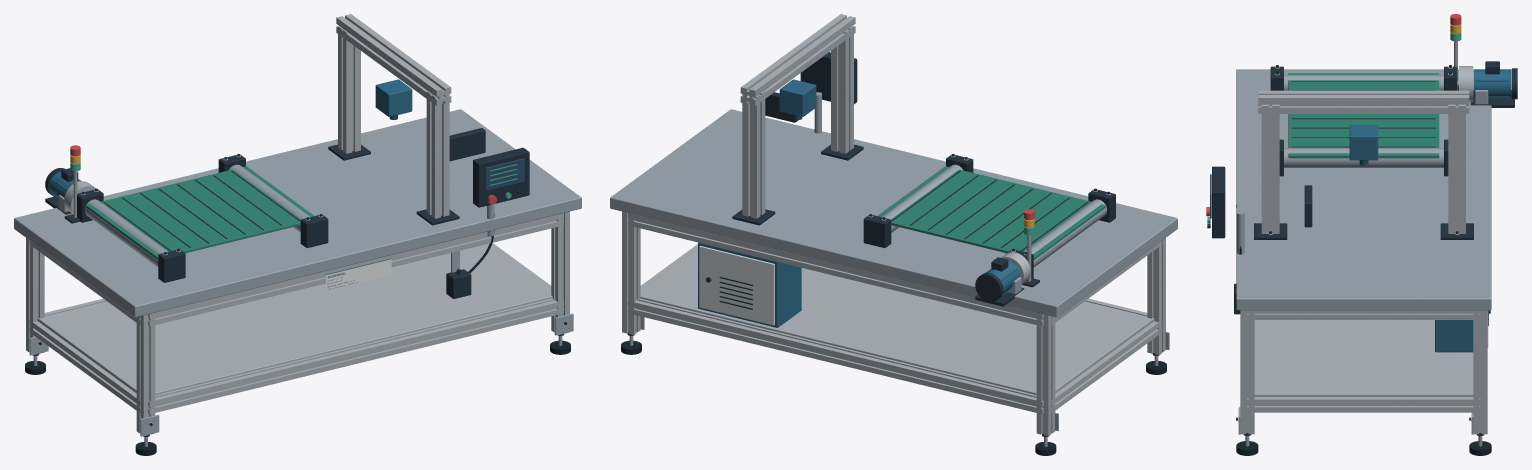
File: barcode-verifier-cell.glb
3 renders of one model, left to right at view 1: azimuth 30°, elevation 25°; view 2: azimuth 150°, elevation 25°; view 3: azimuth 270°, elevation 25°, orthographic. The views are drawn at different scales.
Parts seen in each view (by area): view 1: ClosedMachineBed_40, LowerShelf_41, Belt_71, SlottedExtrusion_34, SlottedExtrusion_35, SlottedExtrusion_133, SlottedExtrusion_128, SlottedExtrusion_123, SlottedExtrusion_11, SlottedExtrusion_36, ConsoleBack_52, SlottedExtrusion_27 (+10 smaller); view 2: ClosedMachineBed_40, LowerShelf_41, Belt_71, SlottedExtrusion_32, SlottedExtrusion_33, BackDoor_43, SlottedExtrusion_133, SlottedExtrusion_123, SlottedExtrusion_128, SlottedExtrusion_3, Cabinet_42, SlottedExtrusion_19 (+8 smaller); view 3: ClosedMachineBed_40, LowerShelf_41, Belt_71, SlottedExtrusion_133, SlottedExtrusion_38, SlottedExtrusion_128, BeltRoller_87, SlottedExtrusion_123, SlottedExtrusion_39, SlottedExtrusion_27, SlottedExtrusion_19, Cabinet_42 (+12 smaller).
Boxes of the visible parts, x1,y1,x2,y2 form: ClosedMachineBed_40: [14, 109, 581, 317]; LowerShelf_41: [37, 244, 552, 394]; Belt_71: [86, 166, 314, 259]; SlottedExtrusion_34: [148, 298, 563, 414]; SlottedExtrusion_35: [148, 213, 563, 326]; SlottedExtrusion_133: [336, 14, 451, 105]; SlottedExtrusion_128: [426, 91, 449, 218]; SlottedExtrusion_123: [338, 26, 360, 153]; SlottedExtrusion_11: [136, 313, 155, 436]; SlottedExtrusion_36: [29, 320, 140, 413]; ConsoleBack_52: [473, 147, 529, 207]; SlottedExtrusion_27: [551, 211, 569, 335]; ClosedMachineBed_40: [610, 109, 1177, 317]; LowerShelf_41: [639, 248, 1154, 394]; Belt_71: [877, 166, 1105, 259]; SlottedExtrusion_32: [628, 298, 1043, 414]; SlottedExtrusion_33: [628, 213, 1043, 326]; BackDoor_43: [699, 245, 774, 325]; SlottedExtrusion_133: [740, 14, 855, 105]; SlottedExtrusion_123: [742, 91, 765, 218]; SlottedExtrusion_128: [831, 26, 853, 153]; SlottedExtrusion_3: [1036, 313, 1055, 436]; Cabinet_42: [698, 242, 801, 327]; SlottedExtrusion_19: [622, 211, 640, 335]; ClosedMachineBed_40: [1236, 69, 1491, 310]; LowerShelf_41: [1254, 320, 1473, 396]; Belt_71: [1288, 73, 1439, 158]; SlottedExtrusion_133: [1258, 90, 1469, 113]; SlottedExtrusion_38: [1247, 397, 1480, 412]; SlottedExtrusion_128: [1261, 104, 1279, 233]; BeltRoller_87: [1284, 148, 1443, 167]; SlottedExtrusion_123: [1448, 104, 1465, 233]; SlottedExtrusion_39: [1247, 310, 1480, 319]; SlottedExtrusion_27: [1240, 310, 1254, 434]; SlottedExtrusion_19: [1473, 310, 1487, 434]; Cabinet_42: [1435, 320, 1473, 352].
Size of the model in its own units: 2.45 by 1.49 by 1.4.
Materials: 12 (3 with a texture image).
